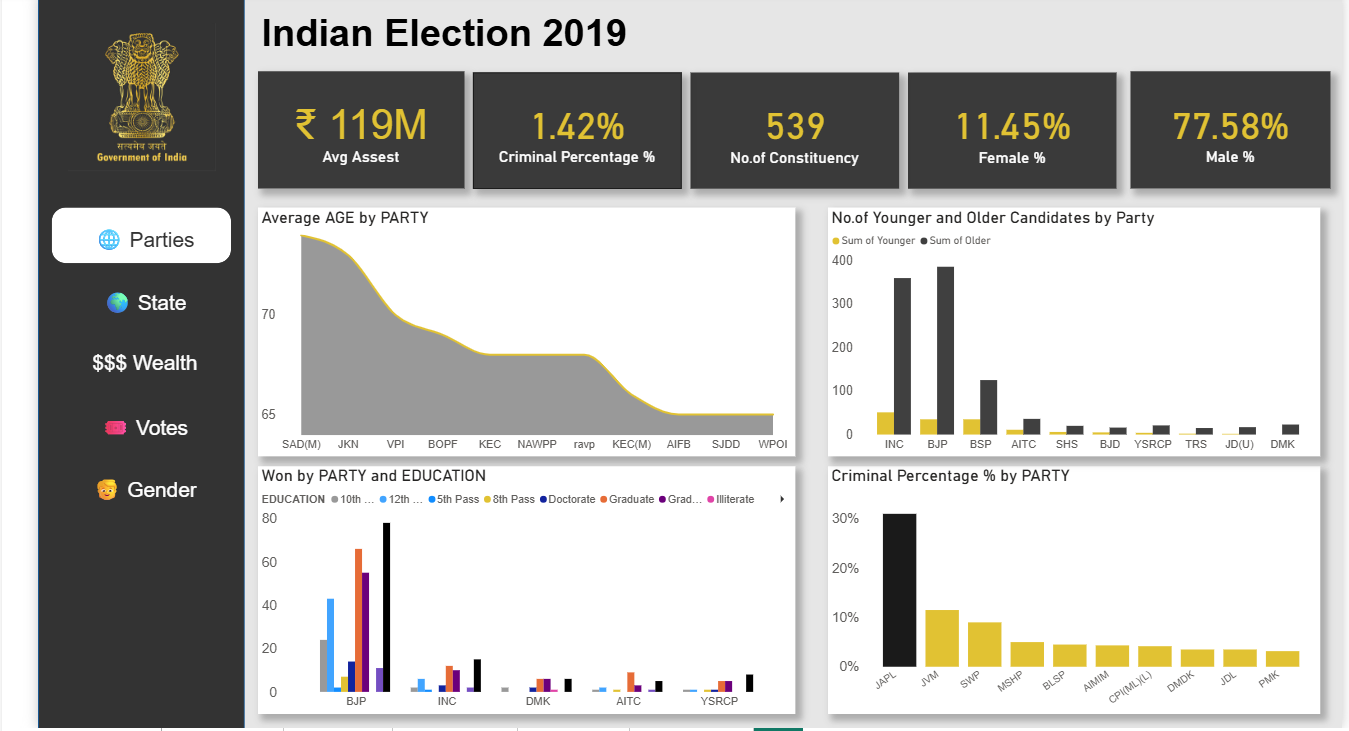

What the dashboard file says about the page in this screenshot:
{"tool":"powerbi","page":{"name":"🌐  Parties","canvas":[1920,1080],"ordinal":0},"visuals":[{"type":"card","fields":{"Values":["Election_2019.Criminal Percentage %"]},"box":[640.5,114.1,307.4,171.2],"z":4},{"type":"shape","box":[0,0,304.1,1080.4],"z":7},{"type":"pageNavigator","box":[20.5,313.5,265,451.6],"z":8},{"type":"image","box":[20.5,37.3,265,227.6],"z":9},{"type":"card","fields":{"Values":["Election_2019.Avg Assest"]},"box":[323.9,112.3,303.7,173],"z":10},{"type":"card","fields":{"Values":["Election_2019.Female %"]},"box":[1281,114.1,307.4,171.2],"z":11},{"type":"card","fields":{"Values":["Election_2019.Male %"]},"box":[1608.6,112.3,294.5,173],"z":12},{"type":"textbox","box":[323.9,18.4,577.9,95.7],"z":13},{"type":"card","fields":{"Values":["Election_2019.No.of Constituency"]},"box":[960.7,114.1,307.4,171.2],"z":14},{"type":"areaChart","title":"Average  AGE by PARTY","fields":{"Category":["Election_2019.PARTY"],"Y":["Avg(Election_2019.AGE)"]},"box":[323.9,312.9,791.4,366.3],"z":15},{"type":"clusteredColumnChart","title":"Won by PARTY and EDUCATION","fields":{"Category":["Election_2019.PARTY"],"Series":["Election_2019.EDUCATION"],"Y":["Election_2019.Total Win"]},"box":[323.9,693.9,791.4,364.4],"z":16},{"type":"clusteredColumnChart","fields":{"Y":["Election_2019.Criminal Percentage %"],"Category":["Election_2019.PARTY"]},"box":[1163.2,693.9,725.2,364.4],"z":17},{"type":"clusteredColumnChart","title":"No.of Younger and Older Candidates by Party","fields":{"Category":["Election_2019.PARTY"],"Y":["Sum(Election_2019.Younger)","Sum(Election_2019.Older)"]},"box":[1163.2,312.9,725.2,366.3],"z":18}]}

Visuals, with their boxes on the page's 1920x1080 design canvas (x1, y1, x2, y2). These are canvas units, not pixel positions in the 1349x731 screenshot, which may show the page scaled, cropped or inside an application window:
card - Election_2019.Criminal Percentage %: (x1=640, y1=114, x2=948, y2=285)
shape: (x1=0, y1=0, x2=304, y2=1080)
pageNavigator: (x1=20, y1=314, x2=286, y2=765)
image: (x1=20, y1=37, x2=286, y2=265)
card - Election_2019.Avg Assest: (x1=324, y1=112, x2=628, y2=285)
card - Election_2019.Female %: (x1=1281, y1=114, x2=1588, y2=285)
card - Election_2019.Male %: (x1=1609, y1=112, x2=1903, y2=285)
textbox: (x1=324, y1=18, x2=902, y2=114)
card - Election_2019.No.of Constituency: (x1=961, y1=114, x2=1268, y2=285)
"Average  AGE by PARTY" areaChart: (x1=324, y1=313, x2=1115, y2=679)
"Won by PARTY and EDUCATION" clusteredColumnChart: (x1=324, y1=694, x2=1115, y2=1058)
clusteredColumnChart - Election_2019.Criminal Percentage % x Election_2019.PARTY: (x1=1163, y1=694, x2=1888, y2=1058)
"No.of Younger and Older Candidates by Party" clusteredColumnChart: (x1=1163, y1=313, x2=1888, y2=679)
